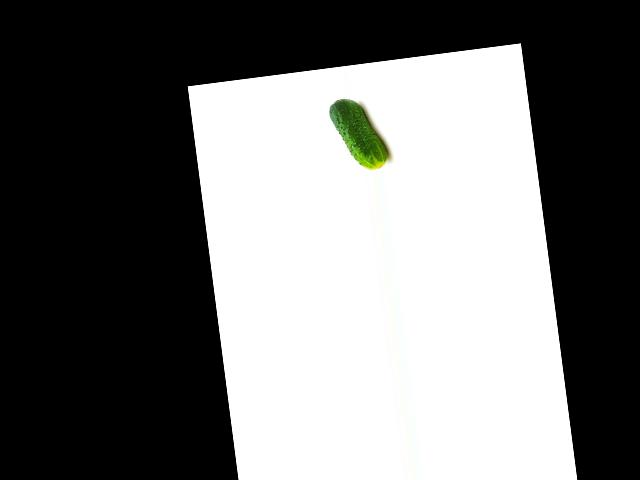cucumber: (327, 94, 389, 174)
